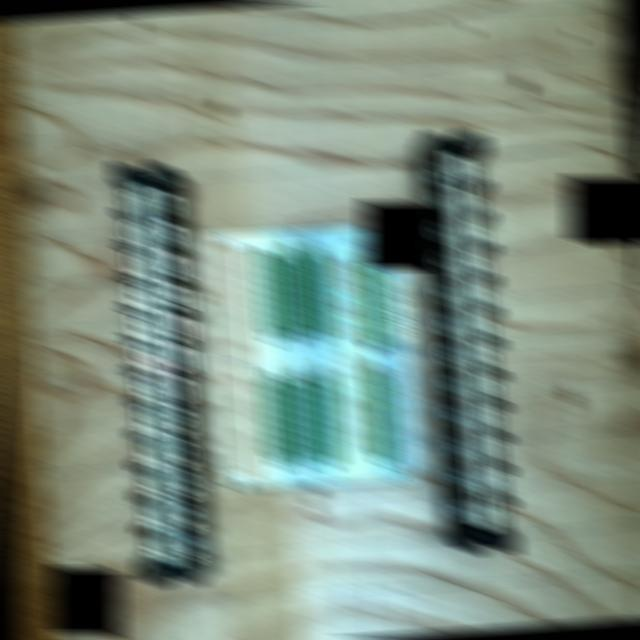Flathead_Block: (423, 129, 517, 554)
Phillips_Block: (111, 161, 201, 586)
Terminal_1: (356, 258, 389, 347), (363, 371, 395, 461)
Terminal_2: (312, 377, 343, 462), (278, 250, 309, 334), (260, 379, 291, 463), (303, 249, 333, 333), (286, 378, 316, 462)
